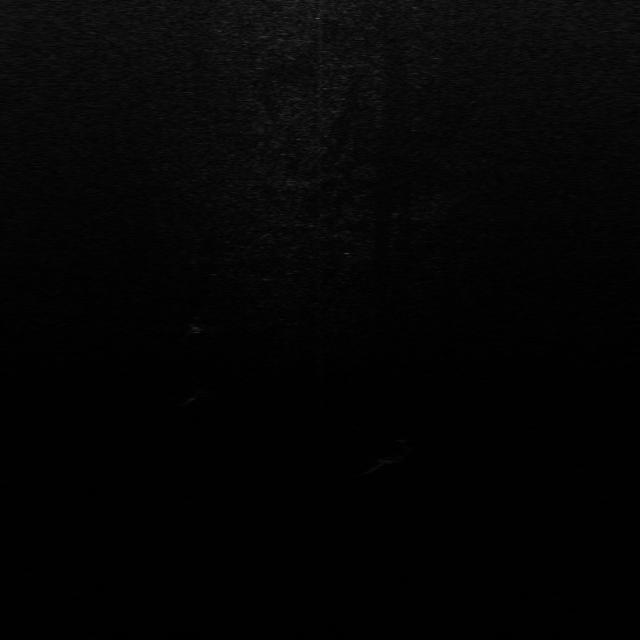ball: (193, 380, 219, 396)
circle cage: (188, 315, 212, 334)
tyre: (377, 440, 414, 464)
